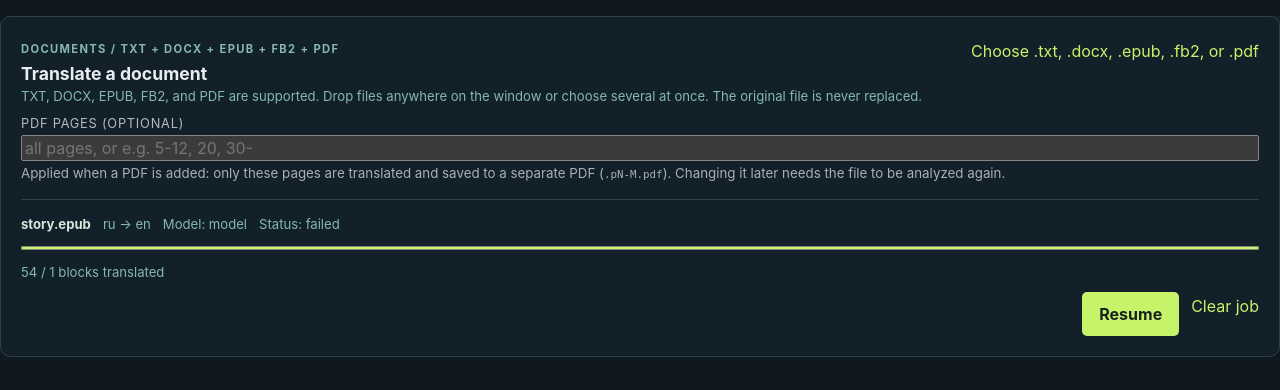
Test: translation workspace › does not restore a cleared job from pending translation polling
What coordinates should you click on to do the following:
click the button "Resume"
I would click on:
 (1131, 314)
Its box is [1082, 292, 1179, 336].
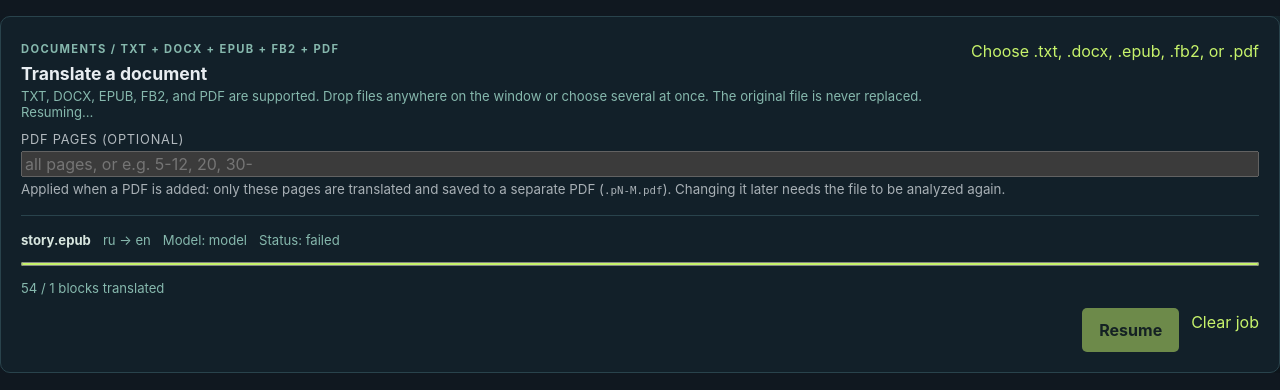
What coordinates should you click on to do the following:
click the button "Clear job"
I would click on:
 (1225, 322)
Its box is [1191, 308, 1259, 336].
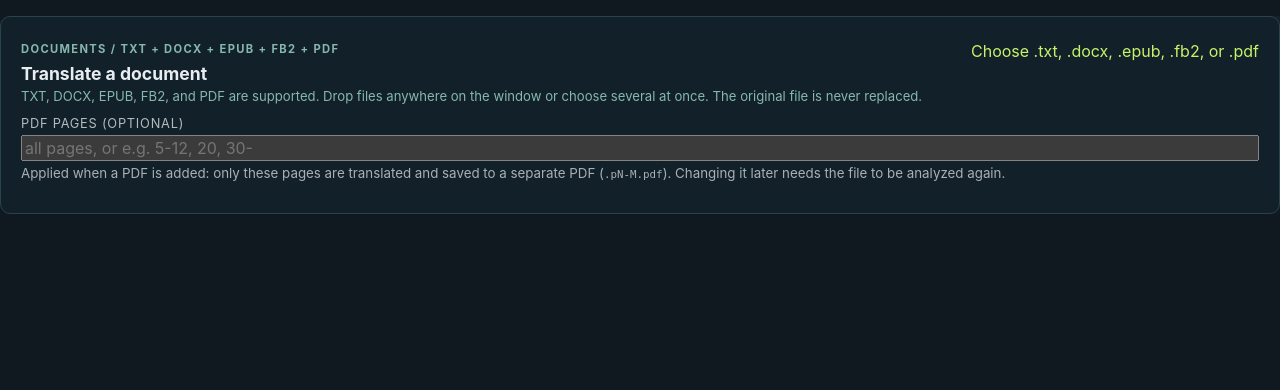
Now the text "story.epub" is gone
